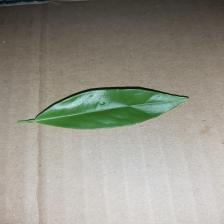healthy: (19, 80, 186, 137)
